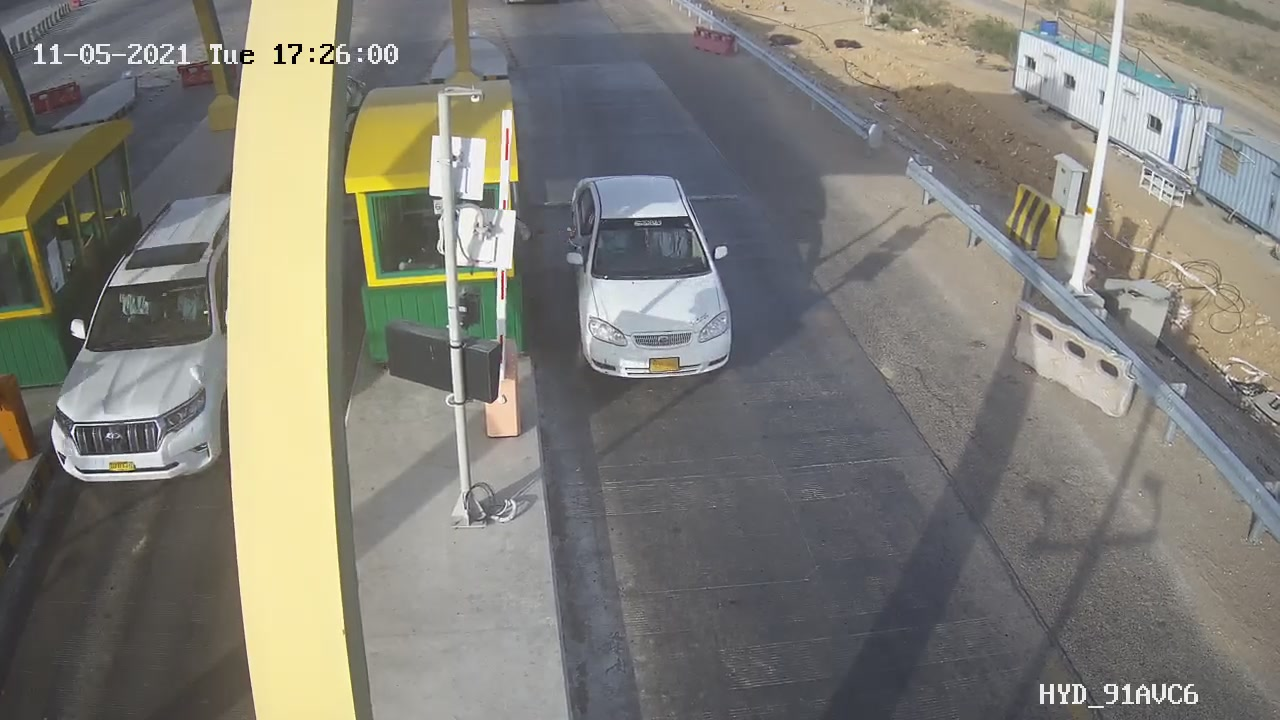F1: (543, 156, 760, 399)
